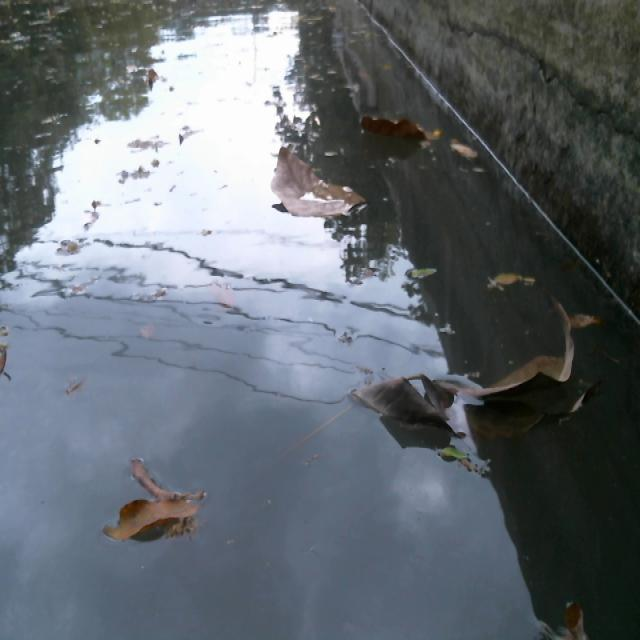Big-leaf: (474, 302, 593, 442), (358, 362, 458, 452), (105, 493, 212, 558), (274, 143, 359, 224), (358, 104, 443, 155)
Small-leaf: (127, 451, 205, 497), (538, 590, 594, 640), (52, 231, 96, 279), (204, 280, 248, 322), (446, 129, 482, 176), (492, 267, 537, 299), (404, 257, 445, 289), (0, 319, 15, 386), (134, 316, 159, 344), (142, 63, 161, 94)
